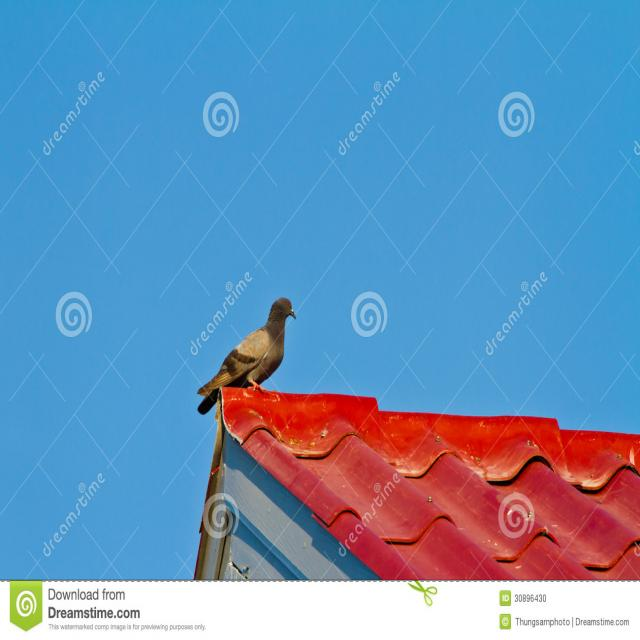bird: (195, 296, 298, 418)
